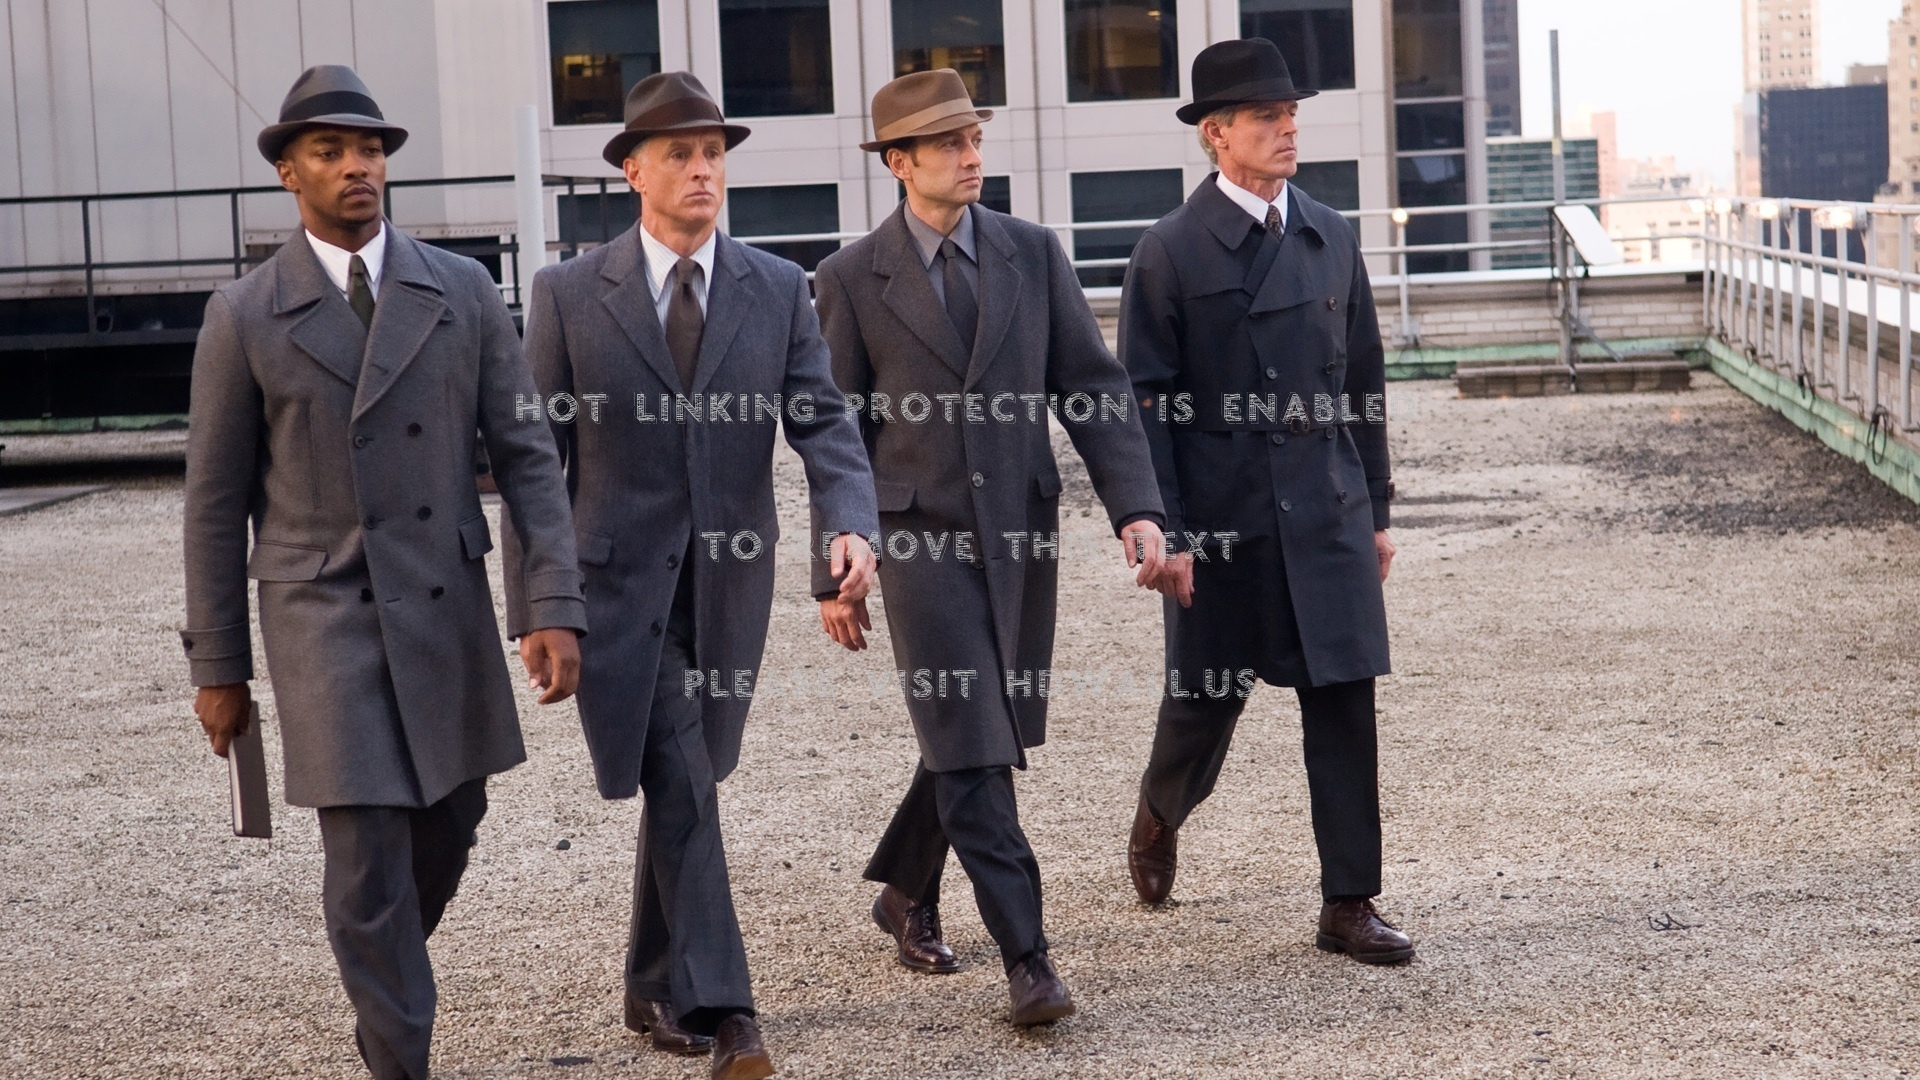bad: (294, 116, 402, 223)
